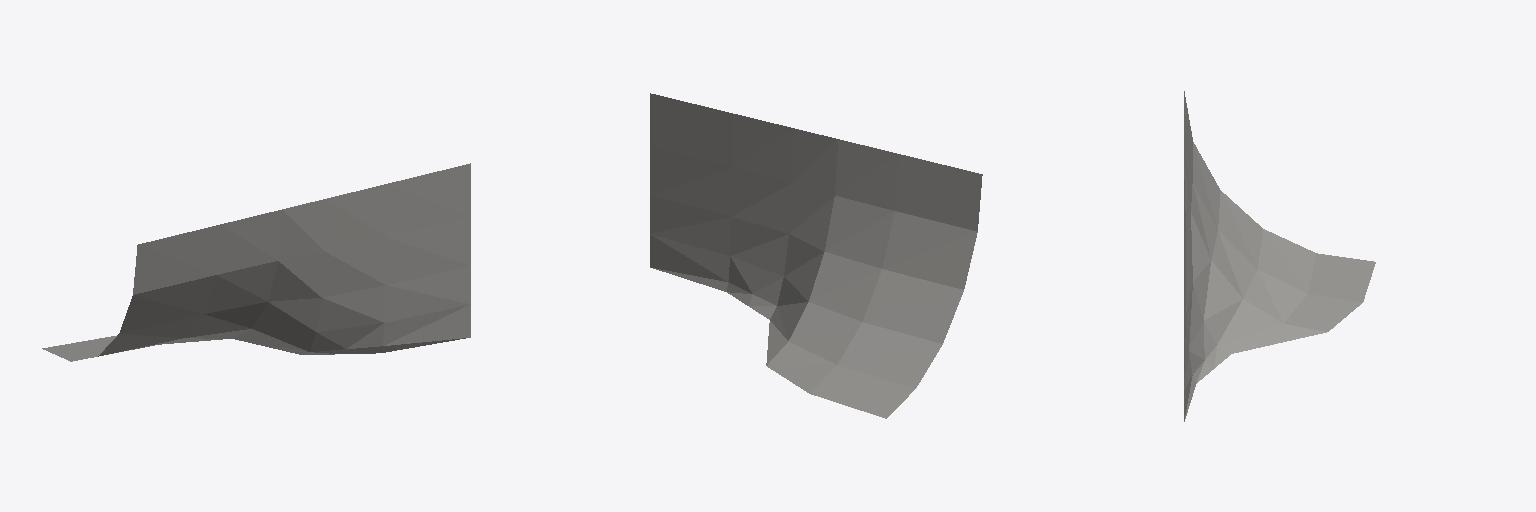
File: Cave_Terrain_Flat_Round_Outer.obj
3 views of the same model, side by side, from view 1: azimuth 30°, elevation 25°; view 2: azimuth 150°, elevation 25°; view 3: azimuth 270°, elevation 25° (orthographic).
Visible parts, largest first — view 1: object1; view 2: object1; view 3: object1.
Part boxes in pixels (x1,y1,x2,y2): object1: (42, 163, 470, 361); object1: (650, 93, 982, 418); object1: (1184, 91, 1375, 421).
Size of the model in its own units: 2 by 1 by 1.